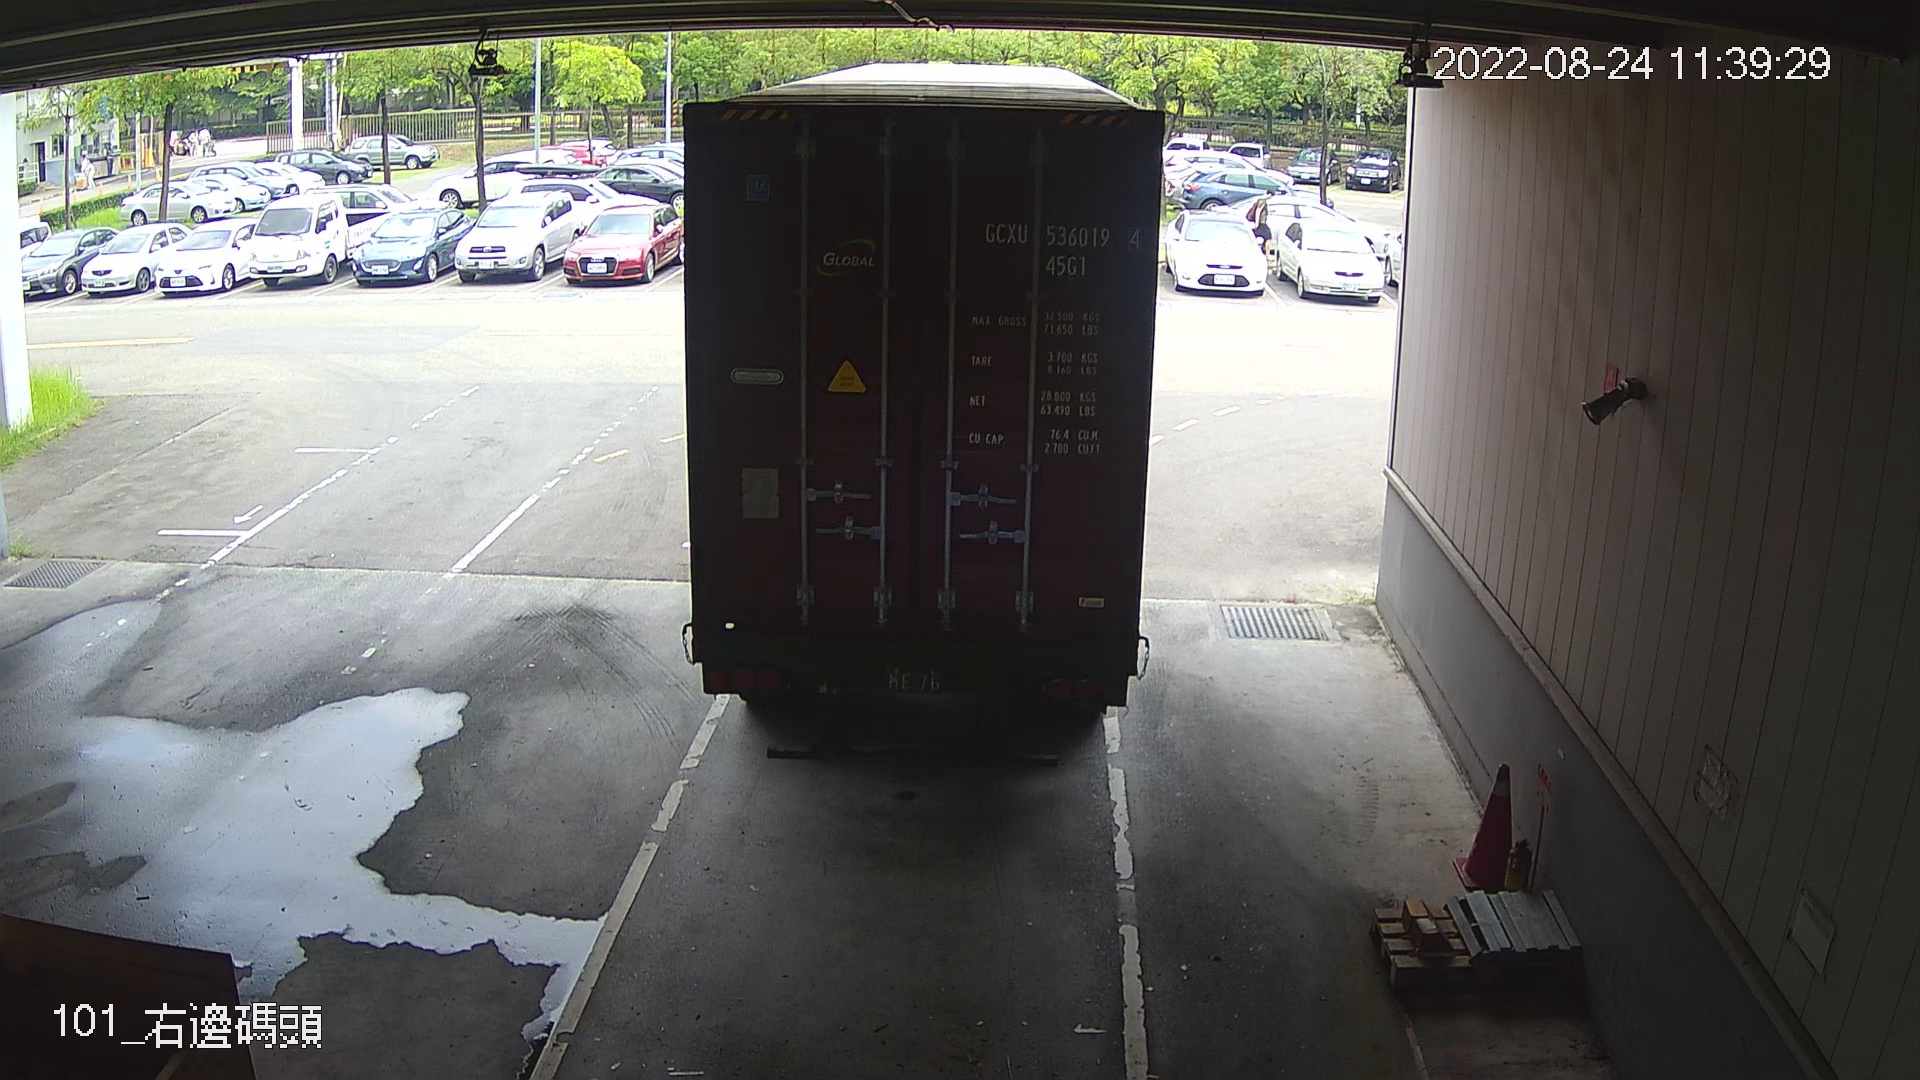container: (973, 204, 1151, 286)
